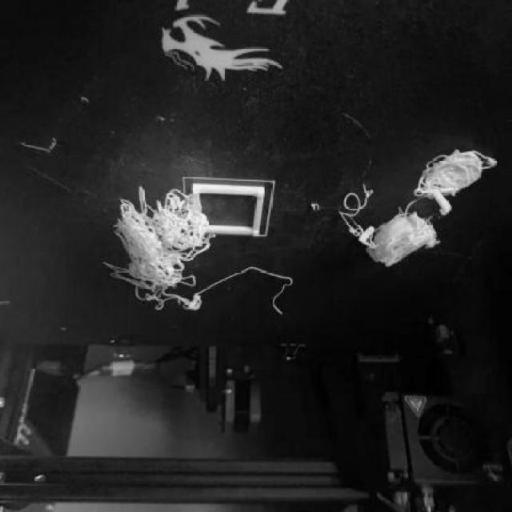spaghetti_and_stringing: (105, 187, 215, 311), (378, 199, 440, 269), (414, 150, 496, 198), (215, 265, 292, 316), (340, 184, 378, 250)
